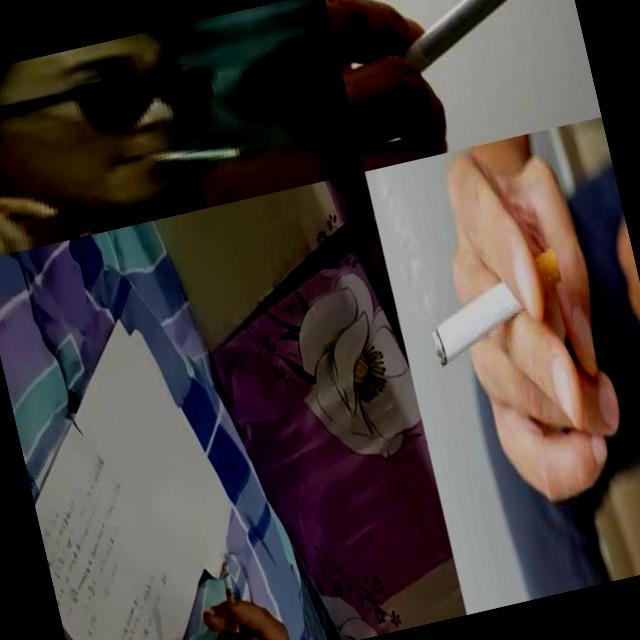smoke: (418, 247, 576, 370), (375, 0, 561, 78), (132, 132, 240, 178), (216, 560, 244, 635)
